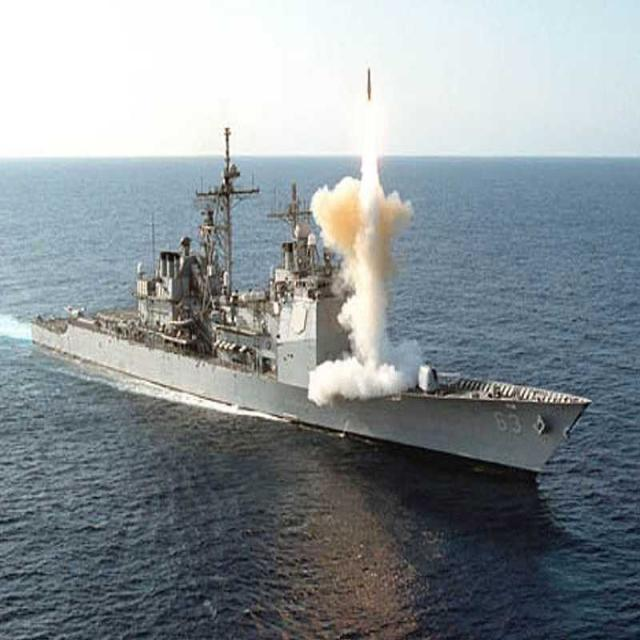missile: (362, 63, 374, 103)
